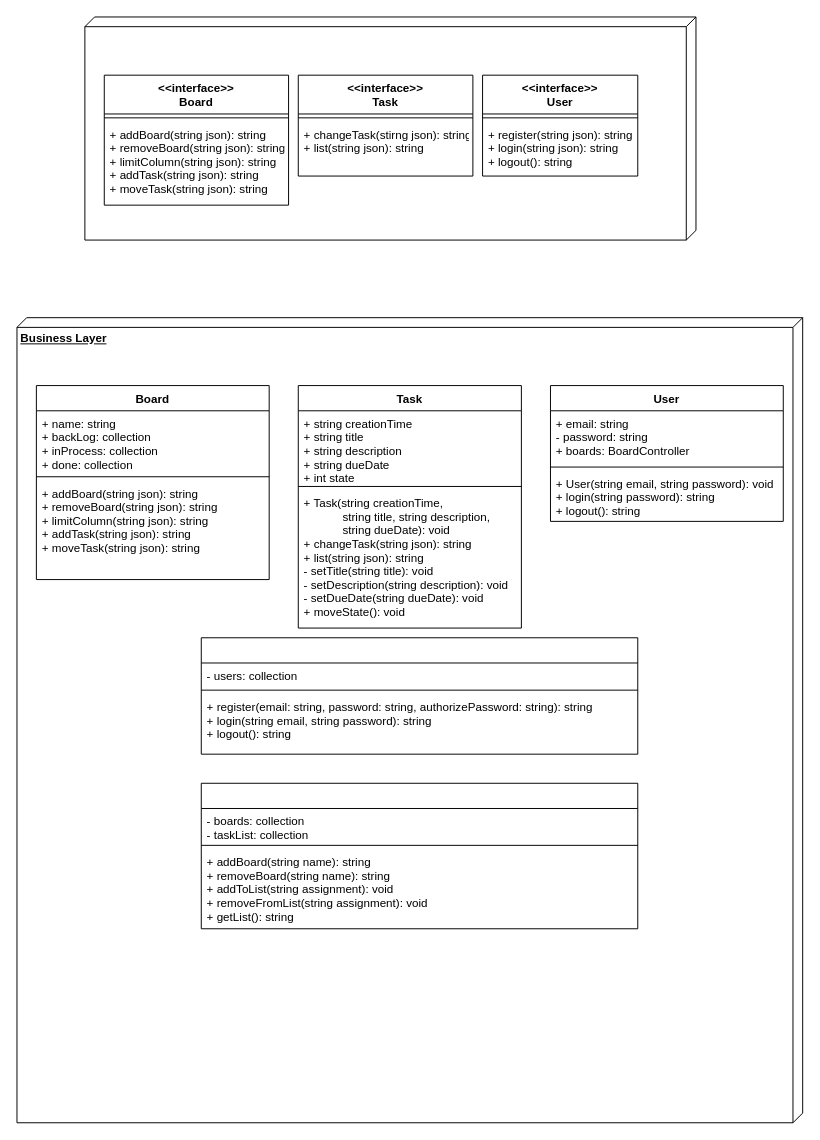
Image size: 820x1140. Some labels were removed from this diagram. The shapes that lost their labels are listed below. From the top down, each one's box as (x1, y1, x2, y2) in pixels, then its label:
(84, 16, 696, 240): Sevice Layer
(200, 637, 638, 754): UserController
(200, 782, 638, 929): BoardController
